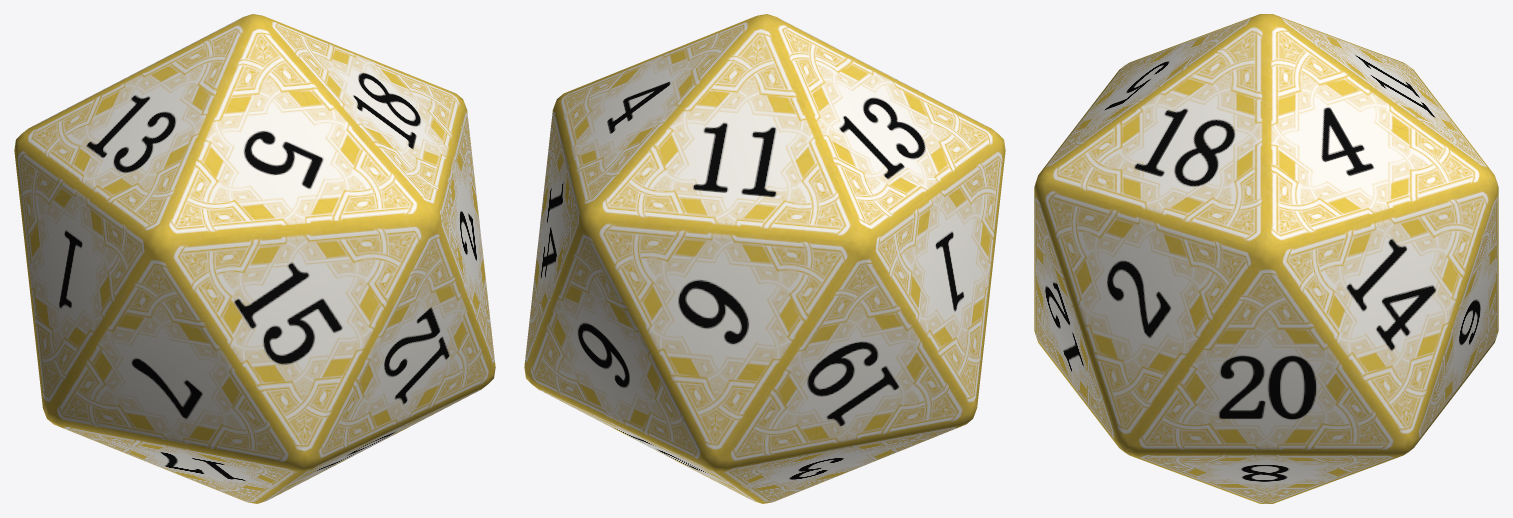
The model's file is dice6.glb.
3 views of the same model, side by side, from view 1: azimuth 30°, elevation 25°; view 2: azimuth 150°, elevation 25°; view 3: azimuth 270°, elevation 25° (orthographic).
Parts seen in each view (by area): view 1: LinkDice; view 2: LinkDice; view 3: LinkDice.
Boxes of the visible parts, bbox=[...] form: LinkDice: bbox=[14, 14, 495, 503]; LinkDice: bbox=[524, 14, 1005, 503]; LinkDice: bbox=[1034, 14, 1498, 503].
Bounding box in the file's own units: 41.87 × 46.61 × 40.14.
2 materials, 1 textured.
